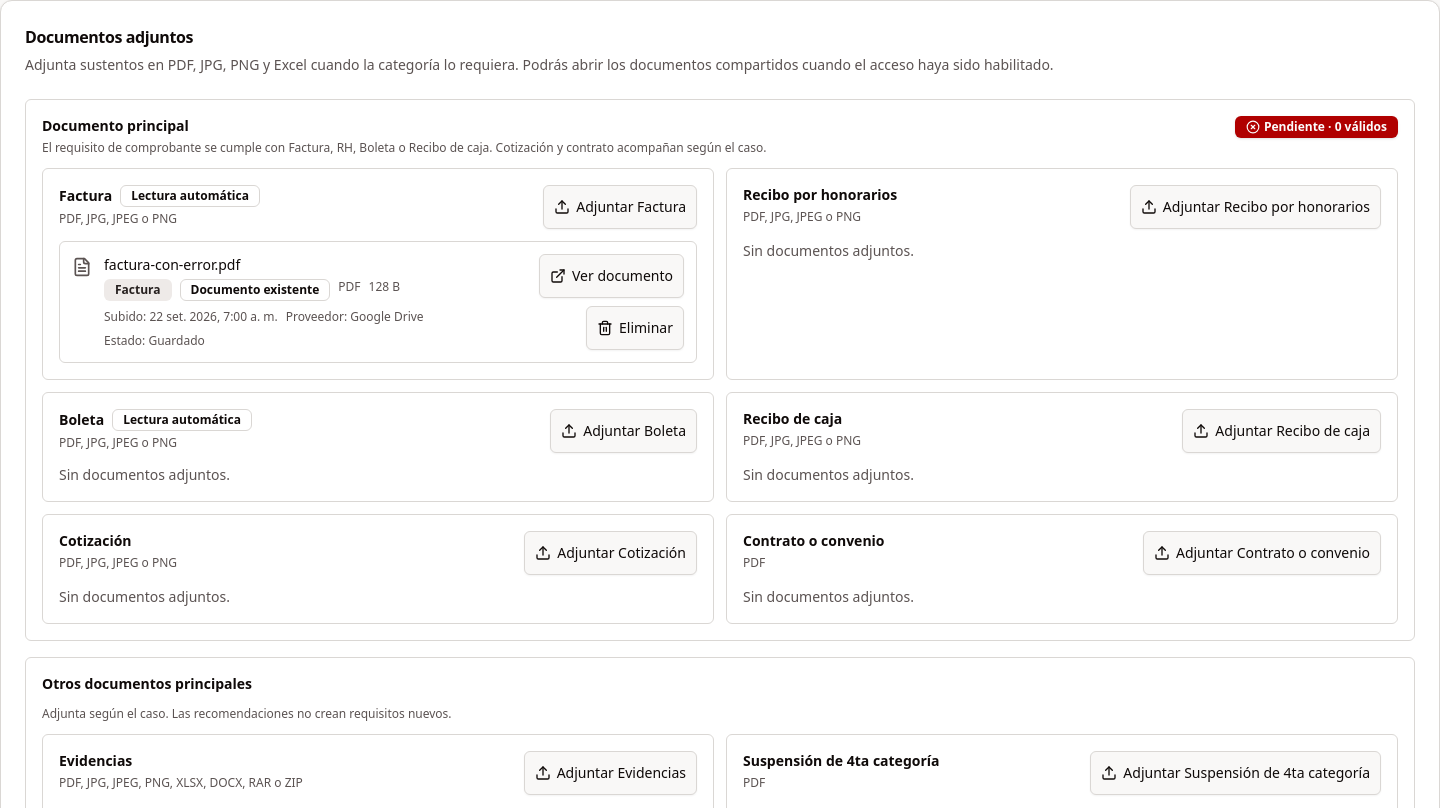
Test: supplier document card approved grouping › keeps the delete dialog open and focuses its actionable error after failure
The image size is (1440, 808).
Click the button with aria-label "Eliminar factura-con-error.pdf" at (635, 328), box [586, 306, 684, 350]
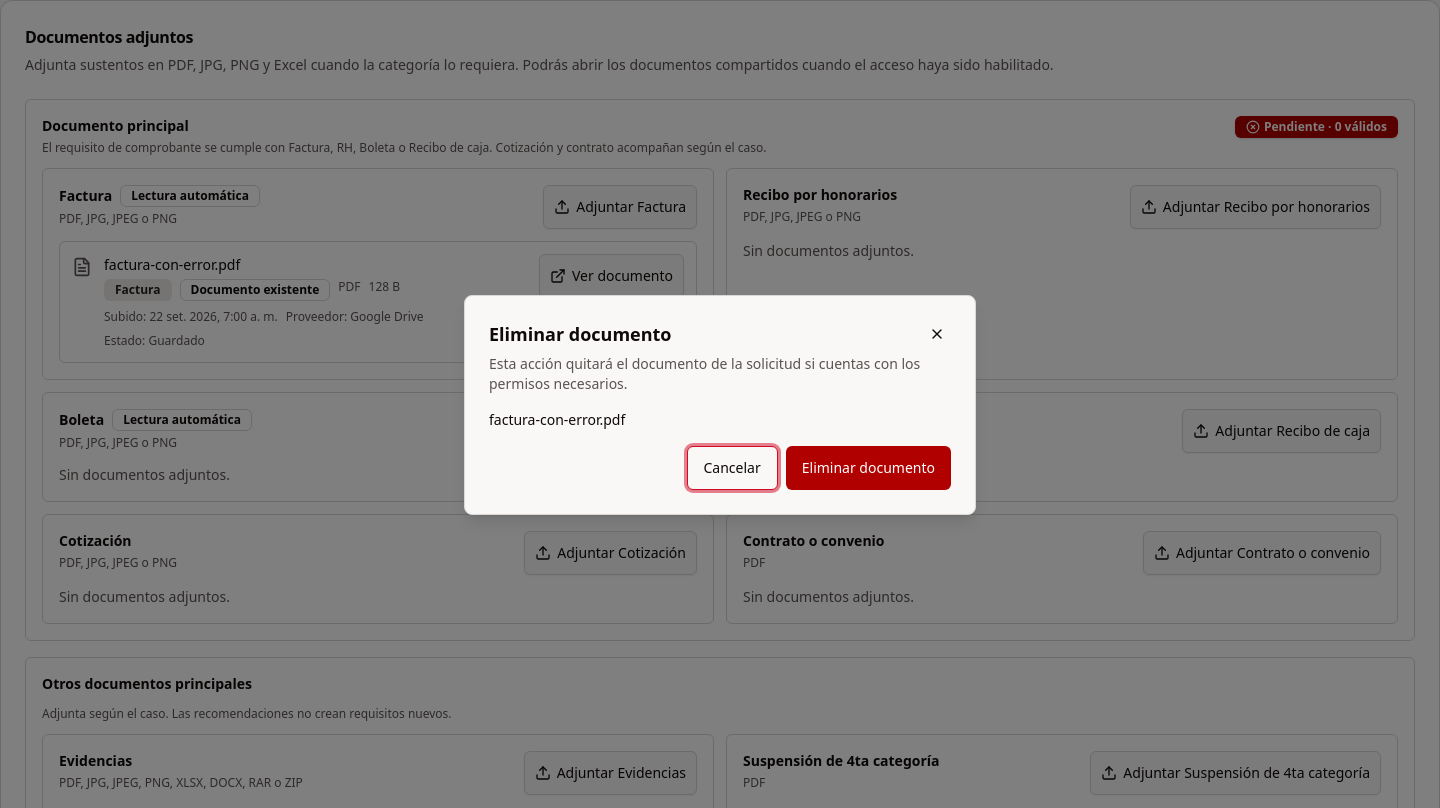
Click the button "Eliminar documento" at (868, 468), box [786, 446, 951, 490]
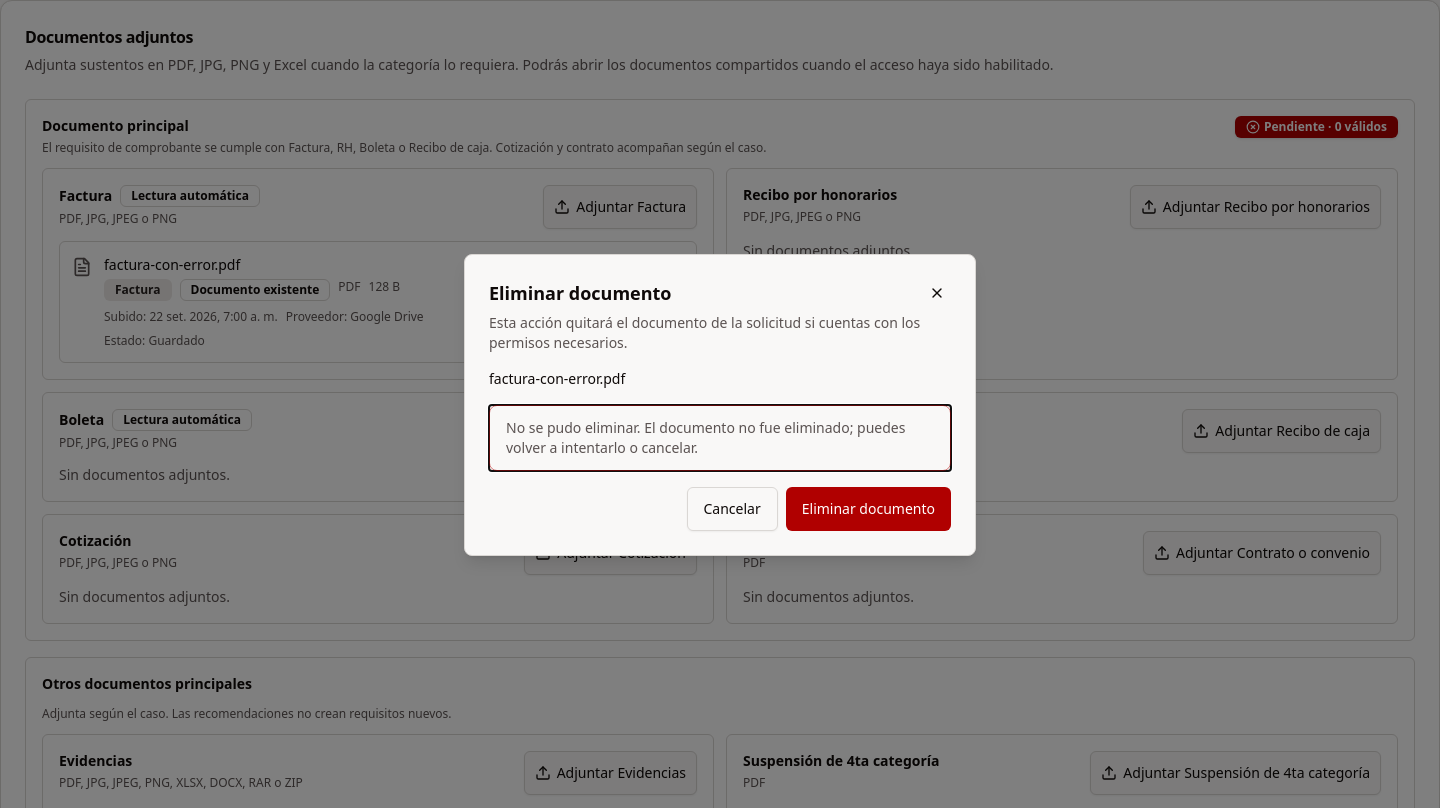
Expected: the dialog "Eliminar documento" is shown, [464, 254, 976, 556]
Expected: the message shows "No se pudo eliminar. El documento no fue eliminado; puedes volver a intentarlo o cancelar.", [489, 405, 951, 471]
